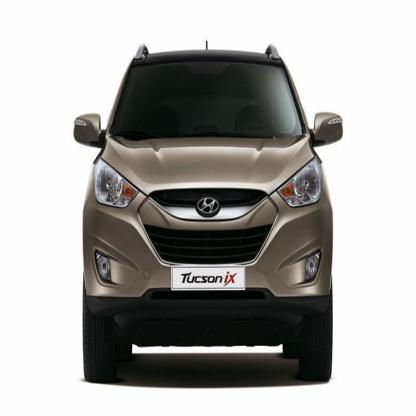Vehicle: (69, 35, 346, 392)
